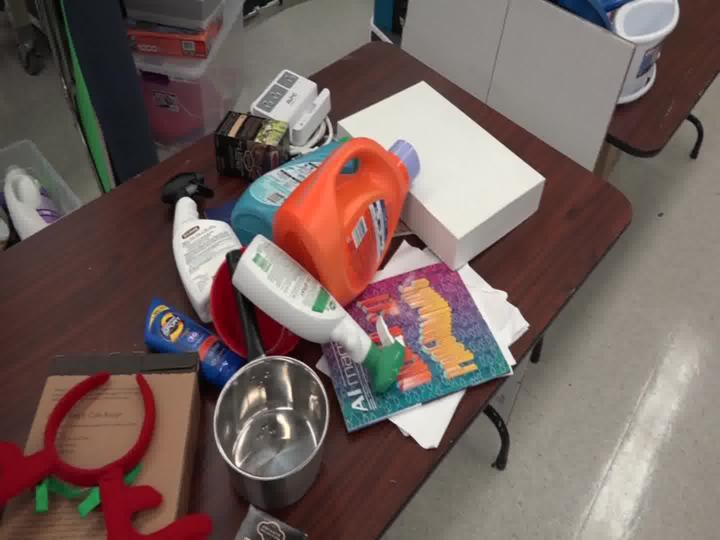downy: (212, 131, 350, 259)
